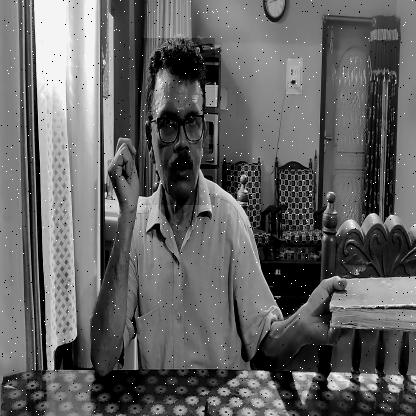Normal: (142, 38, 215, 205)
